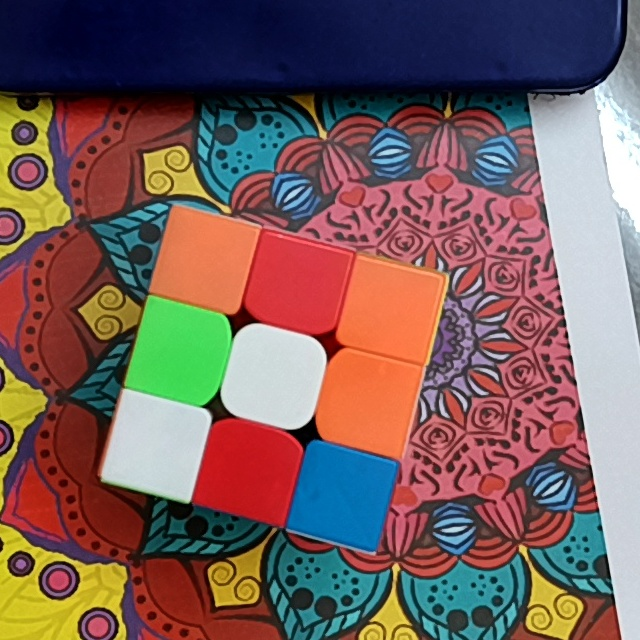tile: (331, 365, 405, 437), (305, 459, 379, 531), (355, 274, 427, 346), (121, 410, 192, 483), (144, 313, 214, 386), (262, 250, 332, 322), (171, 227, 240, 296), (243, 339, 310, 409), (212, 438, 284, 503)
